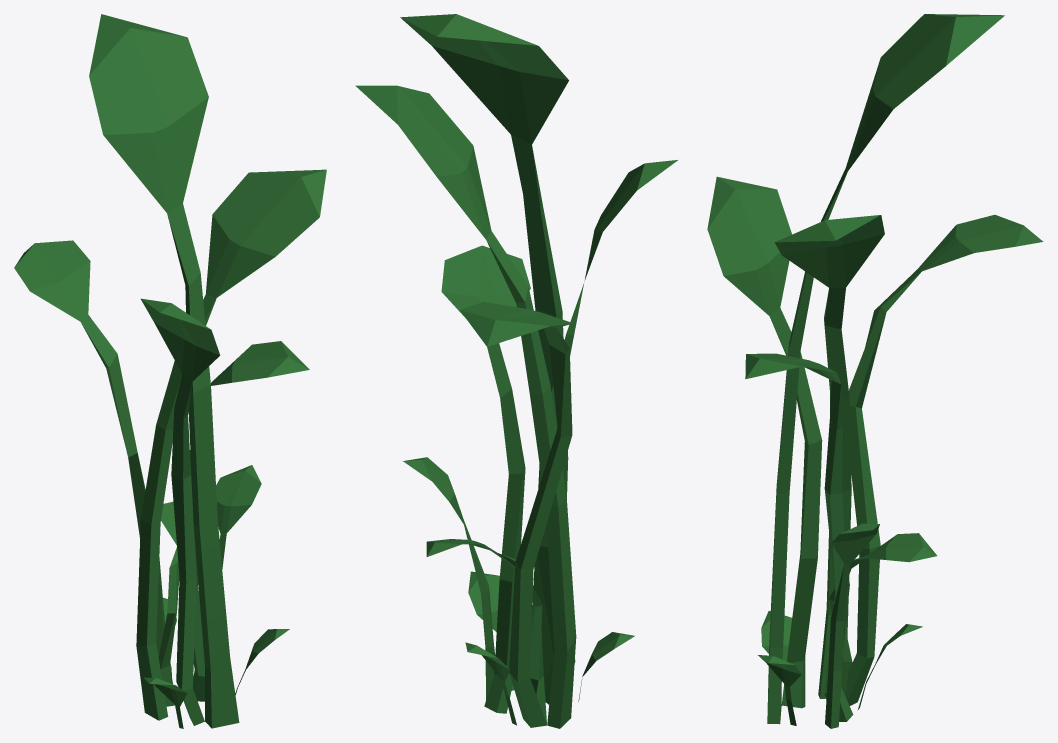
File: furniture_plant-strelitzia.fbx
3 views of the same model, side by side, from view 1: azimuth 30°, elevation 25°; view 2: azimuth 150°, elevation 25°; view 3: azimuth 270°, elevation 25° (orthographic). The views are drawn at different scales.
Parts seen in each view (by area): view 1: furniture_plant_strelitzia; view 2: furniture_plant_strelitzia; view 3: furniture_plant_strelitzia.
Boxes of the visible parts, left/top/right/bottom form: furniture_plant_strelitzia: left=14, top=14, right=326, bottom=728; furniture_plant_strelitzia: left=355, top=14, right=677, bottom=728; furniture_plant_strelitzia: left=707, top=14, right=1043, bottom=728.
Size of the model in its own units: 79.3 by 200 by 87.56.
